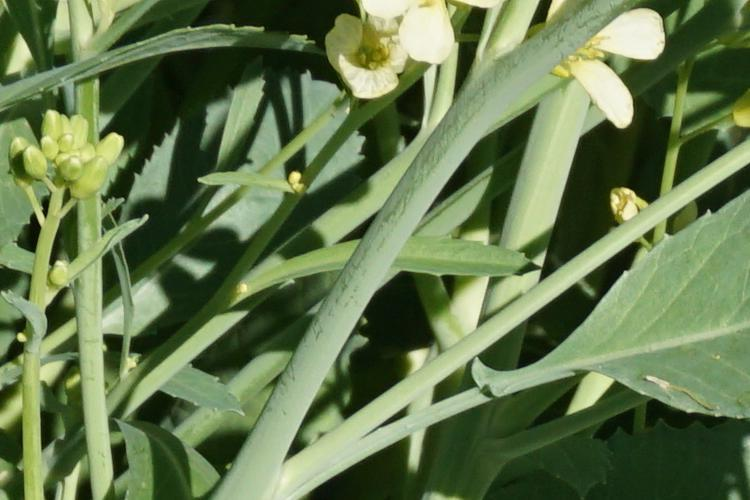bud: (76, 159, 117, 209), (98, 132, 130, 160), (43, 110, 70, 141), (8, 135, 25, 176), (24, 148, 45, 180), (57, 154, 79, 182), (77, 145, 94, 166), (39, 140, 58, 158), (61, 134, 76, 151)
white: (527, 16, 661, 119), (332, 18, 402, 93)
